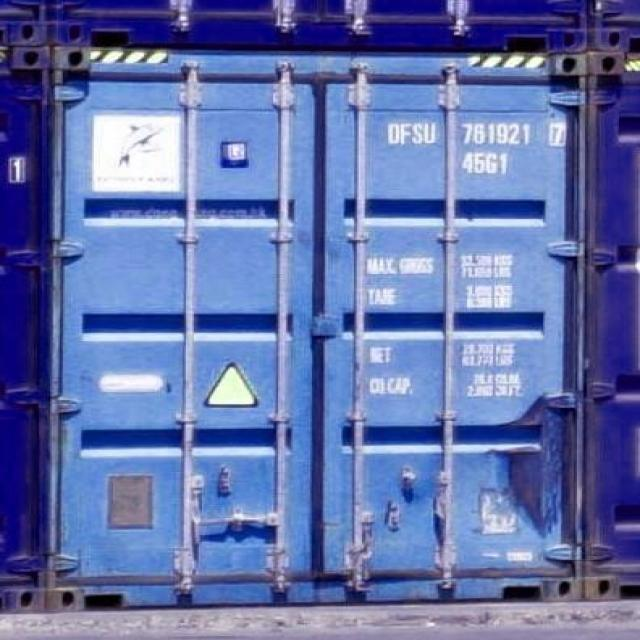ISO: (463, 152, 509, 176)
container_number: (387, 122, 560, 148)
